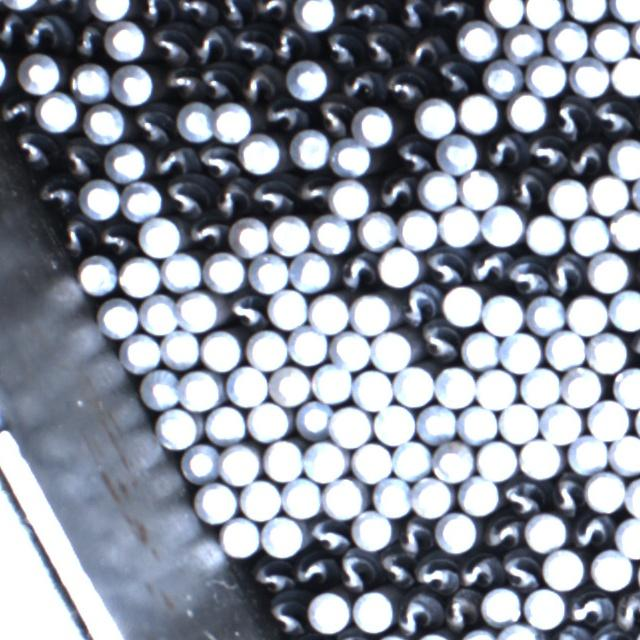tool: (14, 51, 63, 94), (320, 476, 366, 521), (106, 61, 152, 106), (156, 406, 200, 449), (589, 547, 632, 590), (473, 366, 516, 409), (565, 292, 608, 335), (433, 365, 476, 408), (117, 254, 160, 297), (180, 367, 222, 411), (481, 291, 523, 335), (174, 100, 218, 142), (560, 364, 603, 406), (350, 367, 392, 410), (239, 478, 281, 521), (328, 405, 371, 447), (194, 481, 237, 523), (138, 368, 181, 410), (262, 438, 304, 481), (136, 216, 179, 258), (79, 177, 121, 220), (434, 510, 477, 552), (376, 245, 420, 286), (303, 440, 347, 481), (393, 363, 434, 407), (270, 212, 311, 256), (458, 91, 500, 133), (540, 401, 582, 443), (350, 441, 392, 483), (497, 401, 539, 443), (373, 403, 415, 445), (587, 249, 629, 291), (266, 287, 308, 329), (414, 96, 456, 138), (84, 101, 126, 143), (352, 589, 394, 631), (517, 437, 560, 478), (431, 440, 474, 481), (584, 469, 625, 512), (481, 203, 522, 246), (260, 515, 303, 556), (523, 510, 566, 551), (499, 331, 541, 372), (204, 403, 246, 444), (588, 173, 630, 214), (586, 330, 627, 372), (410, 475, 451, 517), (541, 548, 583, 589), (138, 293, 179, 335), (522, 586, 564, 627), (201, 329, 242, 371), (75, 254, 117, 295), (180, 443, 222, 484), (247, 251, 289, 292), (268, 364, 310, 405), (308, 591, 350, 632), (286, 57, 328, 98), (202, 251, 244, 292), (245, 401, 288, 441), (442, 283, 482, 326), (35, 92, 78, 132), (520, 366, 561, 407), (543, 328, 584, 369), (548, 20, 589, 61), (438, 205, 479, 246), (120, 331, 161, 372), (435, 132, 476, 173), (309, 292, 350, 333), (568, 213, 609, 254), (351, 293, 392, 334), (524, 213, 565, 254), (179, 290, 220, 331), (160, 251, 201, 292), (245, 327, 286, 368), (417, 170, 459, 210), (566, 433, 608, 473), (457, 474, 499, 514), (460, 167, 500, 209), (370, 330, 412, 370), (281, 476, 321, 518), (548, 176, 588, 218), (226, 364, 266, 406), (238, 134, 280, 174), (104, 142, 146, 182), (101, 20, 143, 60), (586, 399, 629, 438), (398, 209, 438, 250), (456, 403, 497, 443), (569, 57, 610, 97), (219, 517, 260, 557), (476, 439, 517, 479), (590, 20, 630, 61), (331, 329, 371, 370), (415, 402, 455, 443), (98, 297, 138, 338), (372, 476, 411, 518), (457, 22, 499, 61), (122, 179, 161, 221), (289, 252, 332, 290), (527, 57, 567, 97), (356, 210, 396, 250), (354, 104, 394, 144), (287, 327, 328, 366), (392, 439, 431, 480), (220, 443, 259, 484), (525, 292, 564, 333), (310, 364, 351, 403), (331, 137, 372, 176), (312, 214, 353, 253), (482, 58, 522, 97), (160, 329, 199, 369), (459, 329, 499, 368), (506, 91, 546, 130), (69, 62, 109, 101), (328, 178, 369, 216), (351, 511, 392, 549), (214, 101, 251, 143), (481, 585, 520, 623), (291, 130, 330, 168), (505, 25, 543, 62), (291, 0, 337, 30), (295, 399, 331, 437), (608, 433, 640, 474), (608, 288, 640, 329), (608, 137, 640, 178), (610, 208, 640, 250), (610, 54, 640, 95), (612, 364, 640, 406), (523, 0, 562, 28), (614, 515, 640, 556), (484, 0, 523, 27), (566, 0, 608, 22), (89, 0, 131, 20), (499, 621, 540, 640), (609, 0, 640, 22)
tool_b: (417, 312, 461, 363), (8, 127, 56, 169), (400, 280, 441, 327), (414, 550, 458, 593), (542, 253, 588, 294), (548, 96, 592, 138), (396, 591, 440, 633), (239, 62, 285, 102), (442, 585, 482, 631), (564, 587, 612, 624), (22, 14, 74, 48), (248, 557, 297, 593), (132, 102, 175, 143), (505, 167, 546, 210), (336, 248, 377, 291), (335, 550, 379, 590), (60, 134, 101, 176), (524, 131, 565, 173), (469, 246, 510, 288), (424, 244, 467, 284), (570, 510, 614, 549), (478, 515, 525, 551), (38, 173, 78, 215), (163, 179, 211, 214), (507, 253, 549, 293), (266, 596, 309, 635), (260, 98, 310, 131), (565, 133, 606, 173), (432, 56, 476, 93), (250, 176, 295, 212), (394, 515, 434, 555), (360, 27, 401, 66), (231, 23, 271, 62), (189, 25, 230, 63), (383, 64, 424, 102), (147, 26, 189, 63), (224, 293, 266, 330), (194, 141, 237, 177), (497, 553, 540, 589), (57, 216, 96, 255), (340, 66, 383, 101), (319, 96, 354, 139), (395, 135, 434, 173), (199, 63, 239, 100), (96, 216, 136, 253), (549, 475, 585, 516), (402, 30, 445, 64), (324, 28, 362, 66), (379, 550, 416, 589), (375, 173, 416, 208), (307, 517, 348, 552), (148, 144, 194, 175), (502, 482, 545, 515), (214, 178, 249, 218), (591, 97, 627, 135), (487, 130, 525, 166), (459, 553, 500, 586), (158, 64, 200, 96), (290, 558, 336, 587), (294, 170, 331, 206), (270, 25, 307, 60), (0, 90, 33, 127), (185, 215, 225, 245), (341, 0, 385, 24), (613, 591, 640, 630), (72, 21, 100, 57), (397, 0, 430, 29), (177, 0, 216, 24), (134, 0, 176, 22), (428, 0, 472, 21), (217, 0, 252, 26), (0, 9, 23, 48), (252, 0, 290, 22), (42, 0, 83, 14)
